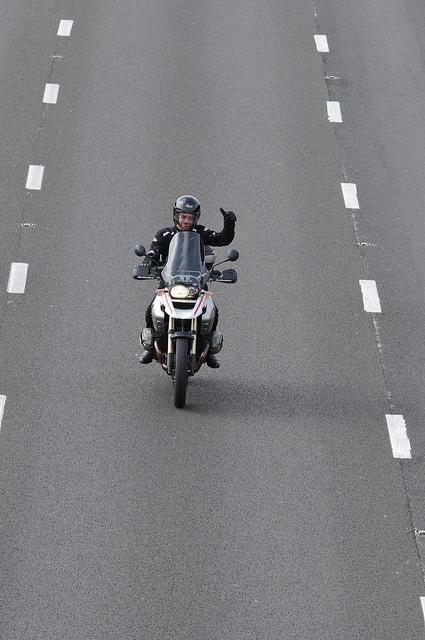motorcycle: (130, 232, 242, 409)
